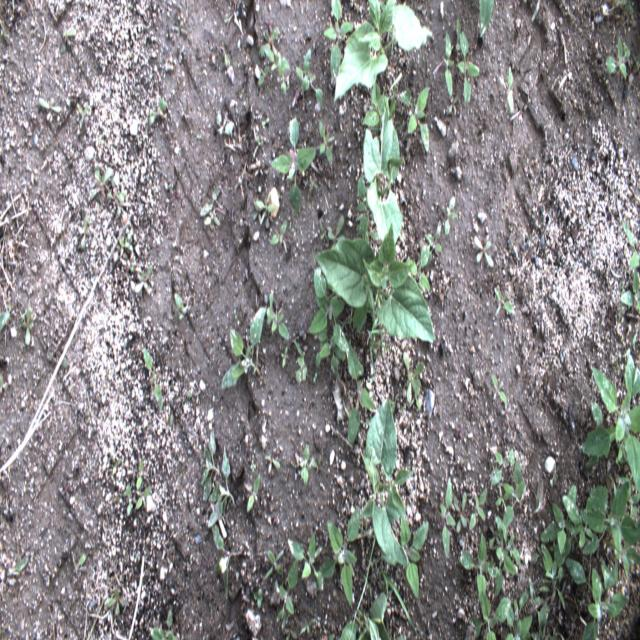crop: (306, 75, 436, 344), (362, 393, 430, 602), (330, 0, 434, 97), (579, 348, 638, 494)
weed: (535, 475, 638, 638), (459, 513, 534, 638), (315, 310, 378, 448), (216, 284, 289, 400), (202, 433, 245, 596), (261, 111, 321, 227), (490, 449, 528, 593), (319, 505, 362, 607), (336, 590, 394, 637), (286, 528, 326, 596), (419, 192, 453, 265), (402, 80, 432, 162), (255, 23, 289, 95), (451, 471, 486, 540), (293, 41, 325, 106), (122, 452, 154, 517), (618, 210, 638, 312), (138, 333, 164, 408), (272, 556, 299, 626), (601, 30, 629, 96), (86, 166, 127, 210), (458, 21, 479, 103), (439, 482, 458, 560), (403, 350, 427, 407), (132, 253, 158, 300), (99, 580, 128, 622), (8, 542, 33, 587), (256, 220, 288, 254), (146, 604, 178, 637), (17, 303, 37, 355), (318, 120, 337, 174), (292, 334, 310, 391), (489, 364, 508, 417), (298, 434, 316, 489), (473, 230, 496, 273), (53, 21, 79, 58), (64, 538, 87, 579), (252, 185, 278, 219), (442, 30, 454, 103), (263, 539, 284, 576), (475, 0, 496, 37), (144, 91, 168, 123), (492, 283, 516, 315), (170, 286, 188, 326), (200, 196, 222, 228), (38, 92, 60, 124), (247, 470, 262, 514), (71, 97, 91, 129), (507, 62, 517, 126), (265, 438, 281, 476), (117, 231, 136, 262), (79, 217, 90, 256), (253, 584, 269, 608), (280, 326, 288, 368)
